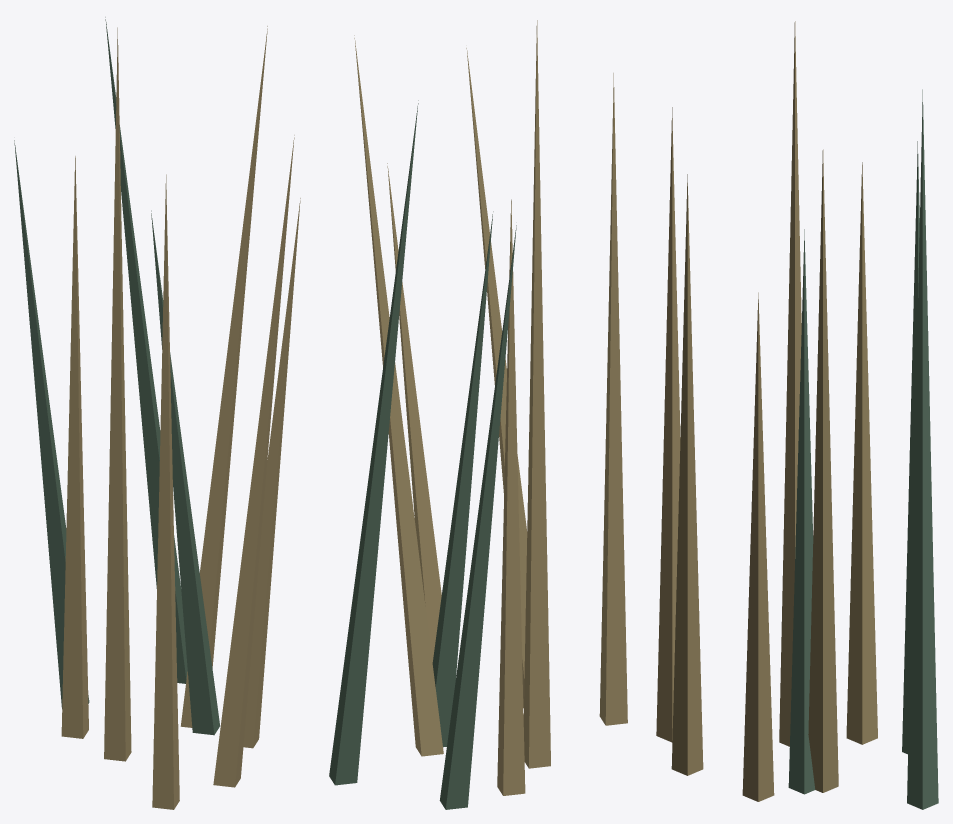
Rendered from reeds.glb.
3 views of the same model, side by side, from view 1: azimuth 30°, elevation 25°; view 2: azimuth 150°, elevation 25°; view 3: azimuth 270°, elevation 25° (orthographic). The views are drawn at different scales.
Parts seen in each view (by area): view 1: reeds; view 2: reeds; view 3: reeds.
Part boxes in pixels (x1=…): reeds: x1=14, y1=17, x2=300, y2=809; reeds: x1=329, y1=20, x2=627, y2=809; reeds: x1=656, y1=21, x2=938, y2=809.
Size of the model in its own units: 0.5263 by 1.78 by 0.625.
